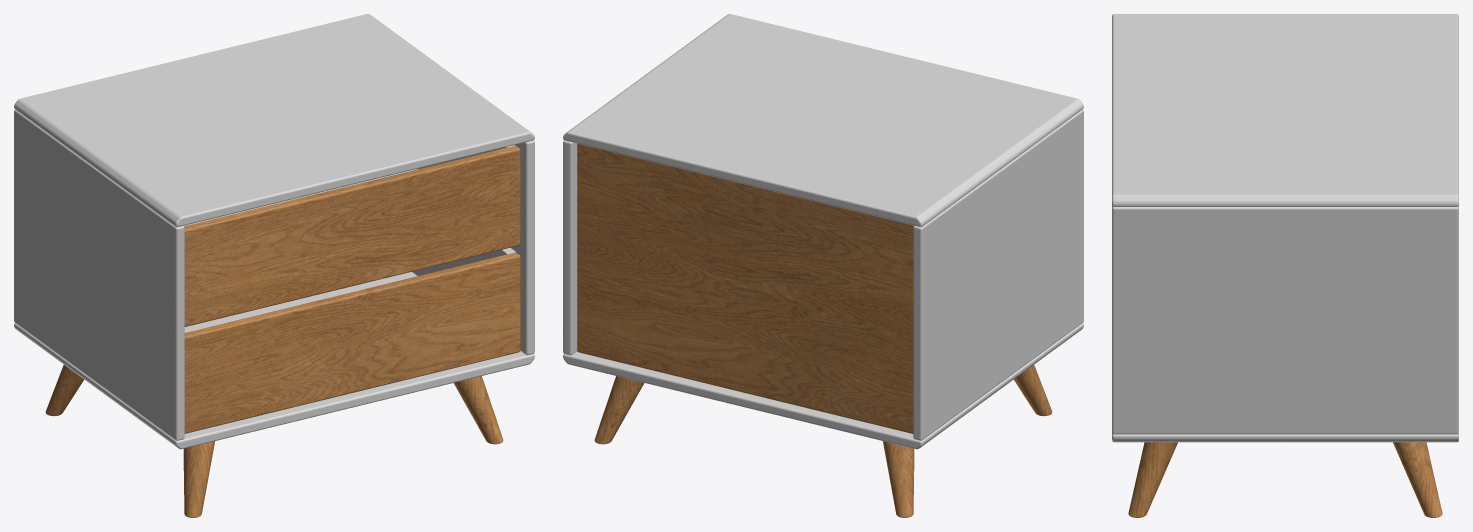
File: modern_bedSide_table.glb
3 renders of one model, left to right at view 1: azimuth 30°, elevation 25°; view 2: azimuth 150°, elevation 25°; view 3: azimuth 270°, elevation 25°, orthographic. The views are drawn at different scales.
Visible parts, largest first — view 1: bedside_table, drawer01, drawer02, blockfoots, drawer011; view 2: bedside_table, back_desk, blockfoots; view 3: bedside_table, blockfoots.
Boxes of the visible parts, <box> form: bedside_table: <box>14,14,534,449</box>; drawer01: <box>184,252,520,433</box>; drawer02: <box>184,145,520,326</box>; blockfoots: <box>45,365,503,517</box>; drawer011: <box>184,247,515,332</box>; bedside_table: <box>563,14,1083,449</box>; back_desk: <box>577,143,914,433</box>; blockfoots: <box>594,365,1052,517</box>; bedside_table: <box>1112,14,1458,442</box>; blockfoots: <box>1128,442,1442,517</box>.
Size of the model in its own units: 0.5946 by 0.4926 by 0.4669.
2 materials, 1 textured.
